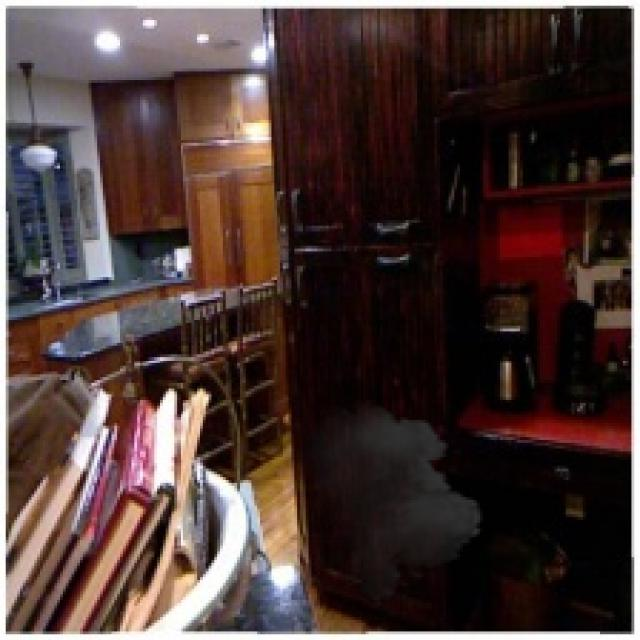smoke: (277, 400, 492, 609)
